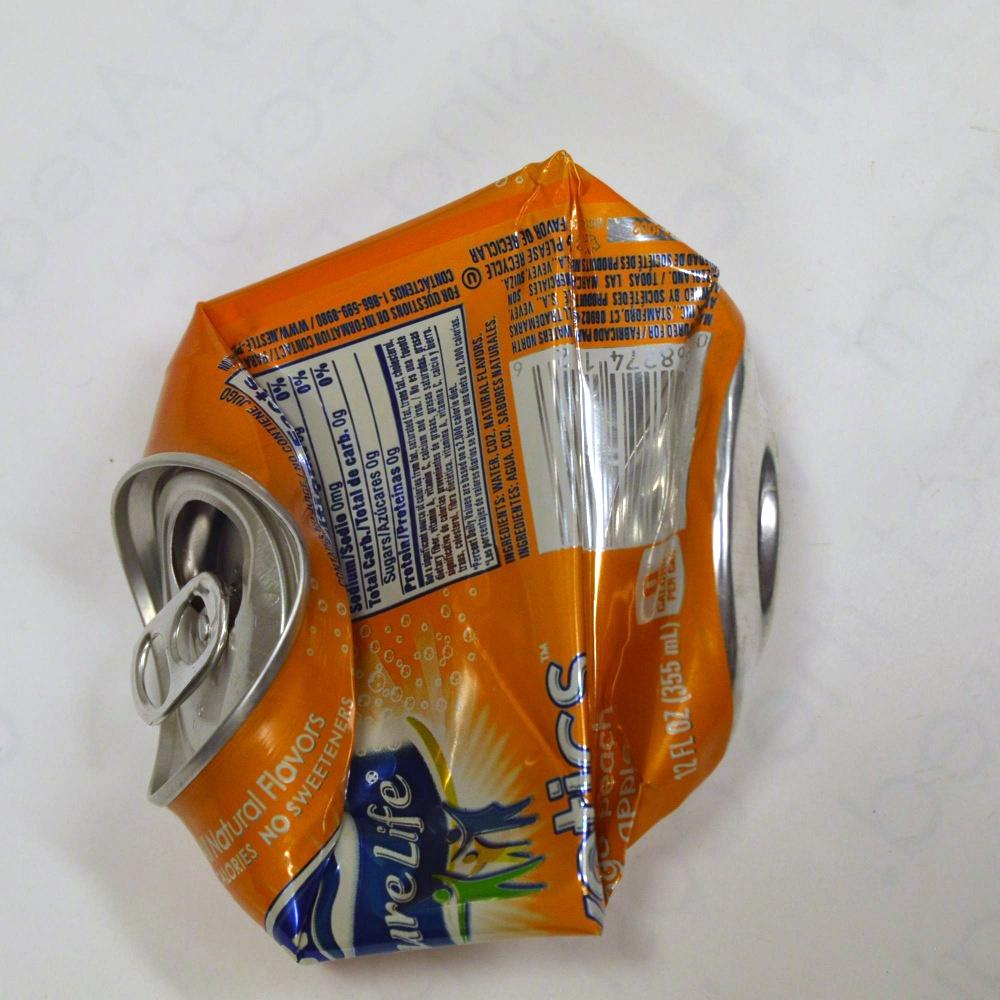Metal: (75, 170, 778, 897)
